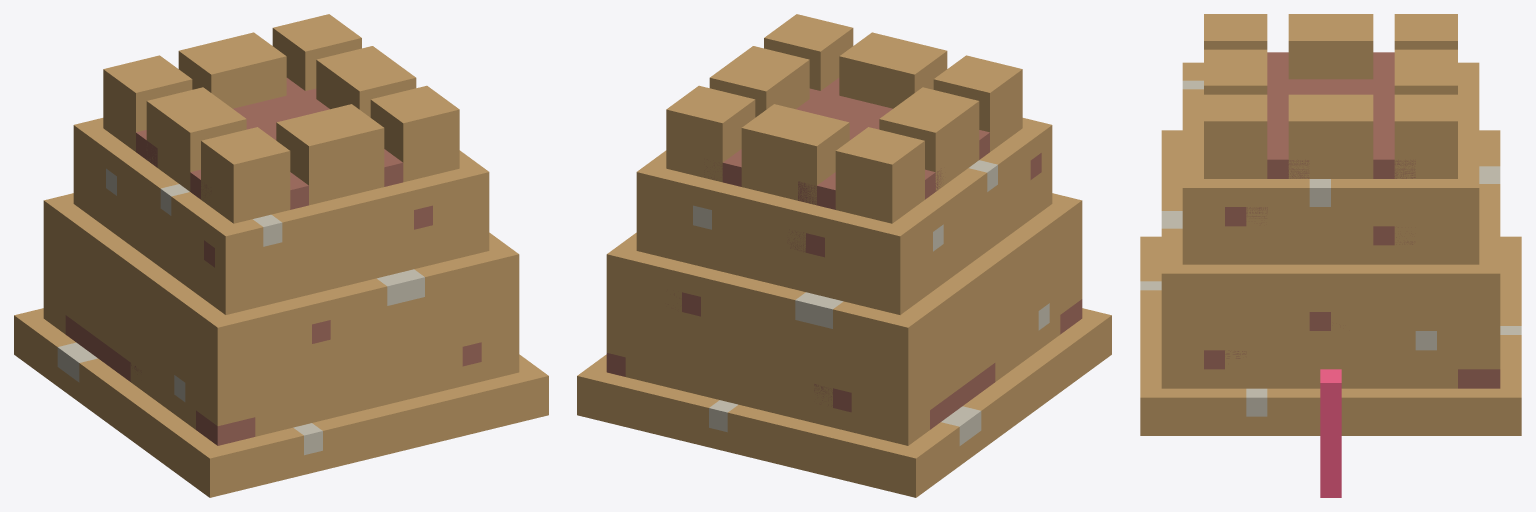
Rendered from sandcastle.glb.
The picture shows the model from 3 angles, left to right: view 1: azimuth 30°, elevation 25°; view 2: azimuth 150°, elevation 25°; view 3: azimuth 270°, elevation 25°; orthographic projection. The views are drawn at different scales.
Visible parts, largest first — view 1: base, BG; view 2: base, BG, back; view 3: base, BG, back, l1.
Part boxes in pixels (x1,y1,x2,y2): base: [14, 14, 548, 497]; BG: [65, 78, 481, 445]; base: [577, 14, 1111, 497]; BG: [734, 78, 1082, 429]; back: [606, 155, 851, 412]; base: [1140, 14, 1521, 435]; BG: [1267, 52, 1394, 150]; back: [1204, 150, 1500, 388]; l1: [1320, 369, 1341, 497].
Size of the model in its own units: 18.5 by 18 by 18.
9 materials, 9 textured.
